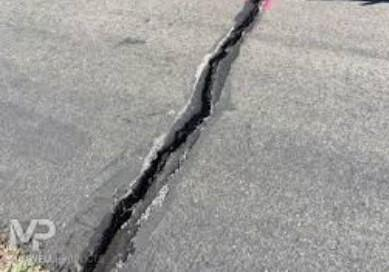pothole: (62, 0, 292, 270)
